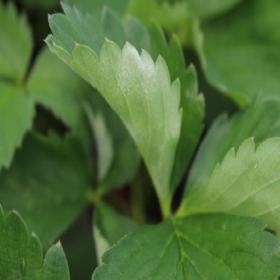Powdery Mildew Leaf: (44, 0, 208, 214)
